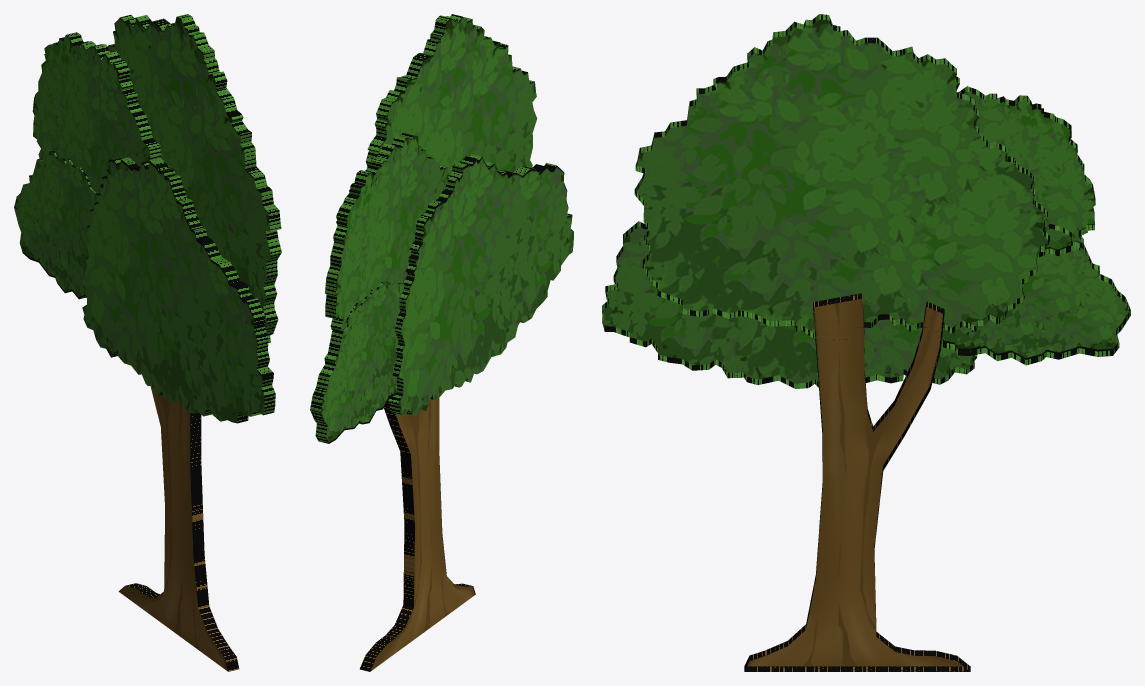
File: Tree2_m.FBX
3 renders of one model, left to right at view 1: azimuth 30°, elevation 25°; view 2: azimuth 150°, elevation 25°; view 3: azimuth 270°, elevation 25°, orthographic. The views are drawn at different scales.
Parts seen in each view (by area): view 1: Tree_B_05, Tree_B_03, Tree_B_02, Tree_B_01, Tree_B_04; view 2: Tree_B_05, Tree_B_03, Tree_B_02, Tree_B_01, Tree_B_04; view 3: Tree_B_03, Tree_B_01, Tree_B_05, Tree_B_04, Tree_B_02.
Boxes of the visible parts, left/top/right/bottom form: Tree_B_05: left=82, top=157, right=275, bottom=423; Tree_B_03: left=107, top=14, right=281, bottom=342; Tree_B_02: left=32, top=32, right=161, bottom=193; Tree_B_01: left=118, top=385, right=239, bottom=671; Tree_B_04: left=14, top=150, right=99, bottom=299; Tree_B_05: left=388, top=154, right=573, bottom=415; Tree_B_03: left=365, top=14, right=537, bottom=175; Tree_B_02: left=325, top=133, right=448, bottom=331; Tree_B_01: left=360, top=397, right=475, bottom=671; Tree_B_04: left=310, top=281, right=404, bottom=443; Tree_B_03: left=634, top=14, right=1049, bottom=340; Tree_B_01: left=744, top=293, right=970, bottom=671; Tree_B_05: left=602, top=221, right=977, bottom=388; Tree_B_04: left=941, top=223, right=1130, bottom=365; Tree_B_02: left=958, top=86, right=1095, bottom=257.
Bounding box in the file's own units: 23.88 × 327 × 242.
